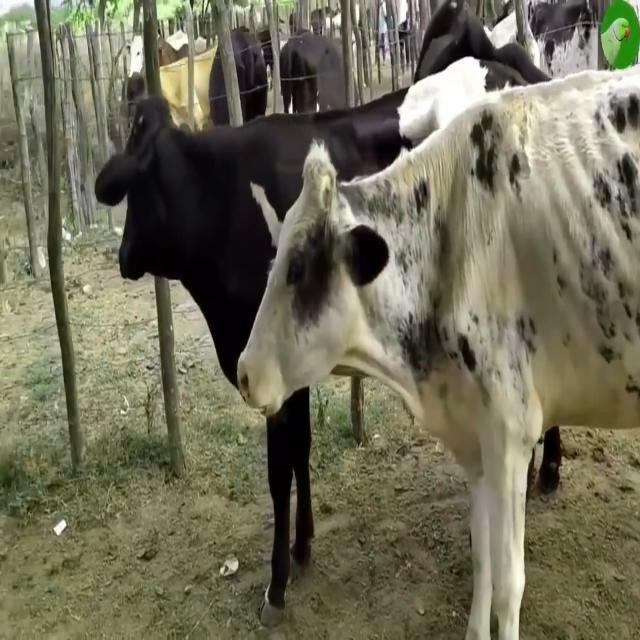cow: (239, 66, 640, 640), (95, 58, 522, 383), (265, 389, 314, 621)
